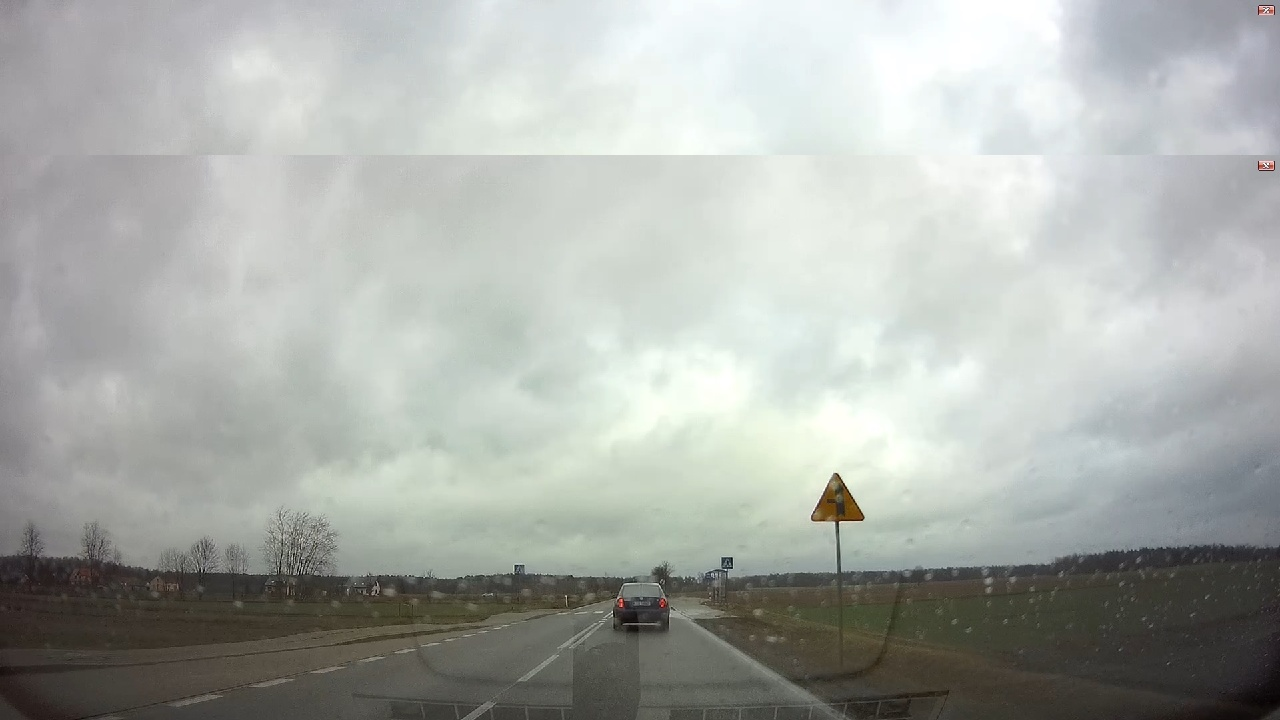A6c: (811, 473, 866, 522)
